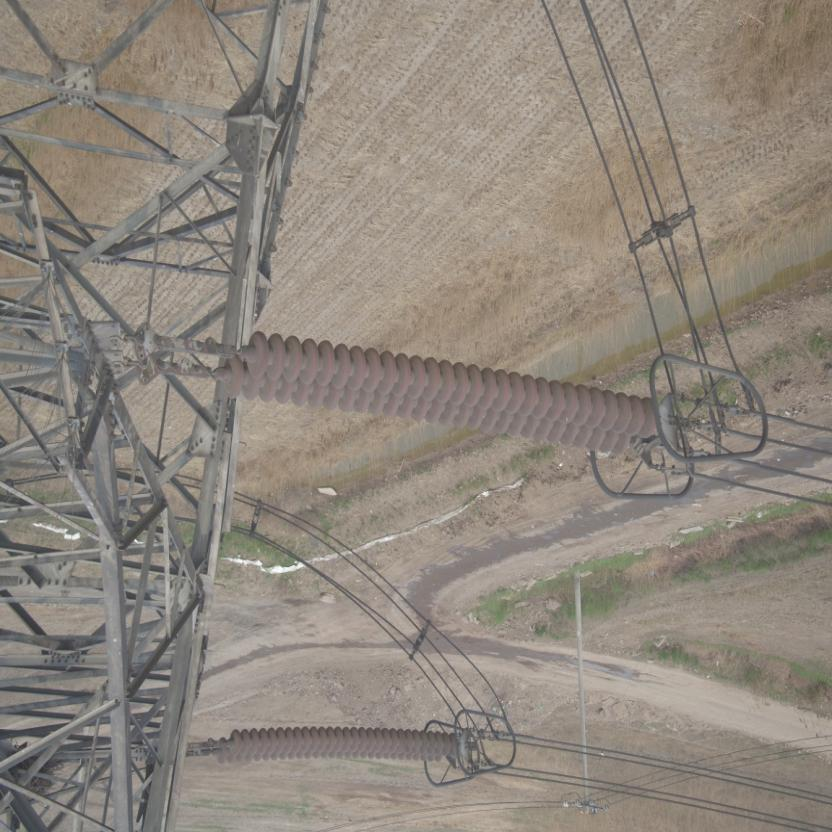insulator: (173, 330, 665, 466), (196, 724, 466, 768)
